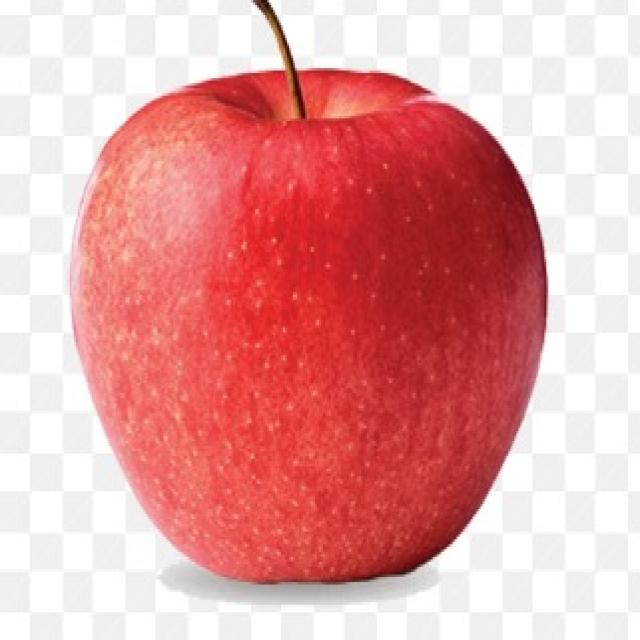yan_yemek: (66, 0, 550, 585)
